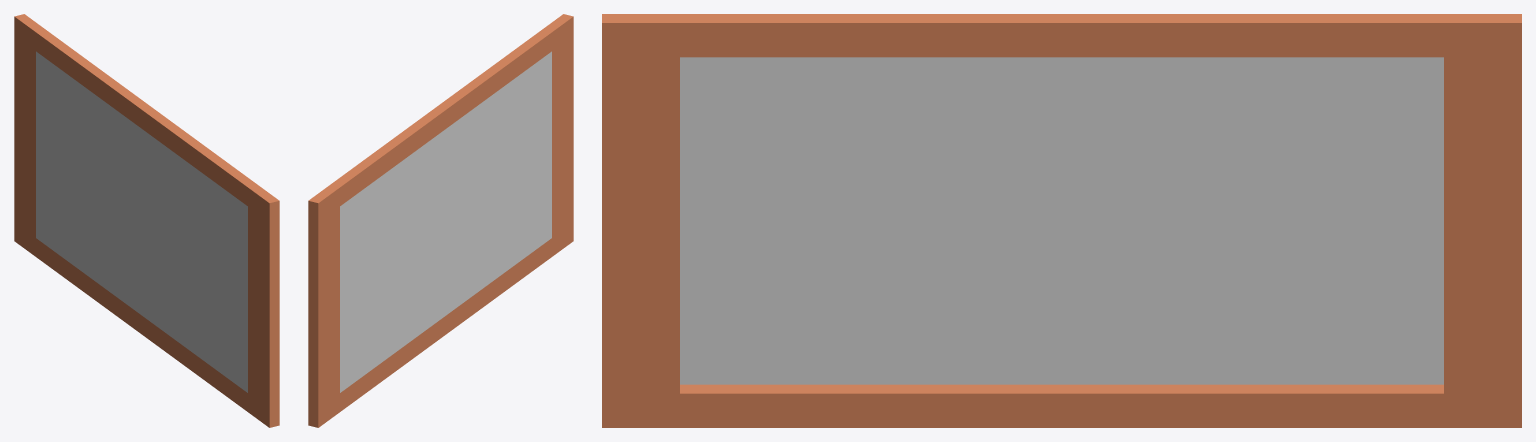
The model's file is Frame2.fbx.
3 views of the same model, side by side, from view 1: azimuth 30°, elevation 25°; view 2: azimuth 150°, elevation 25°; view 3: azimuth 270°, elevation 25° (orthographic). The views are drawn at different scales.
Parts seen in each view (by area): view 1: Frame2; view 2: Frame2; view 3: Frame2.
Boxes of the visible parts, x1,y1,x2,y2 form: Frame2: [14, 14, 279, 427]; Frame2: [308, 14, 573, 427]; Frame2: [602, 14, 1521, 427].
Bounding box in the file's own units: 2 × 0.9718 × 0.0459.
